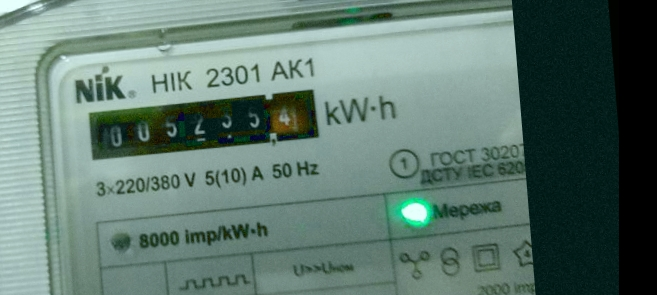0: (106, 122, 123, 148), (134, 117, 151, 142)
2: (188, 109, 206, 136)
3: (215, 104, 234, 130)
4: (273, 99, 293, 129)
5: (243, 100, 261, 130), (162, 112, 177, 138)
screen: (73, 77, 328, 169)
